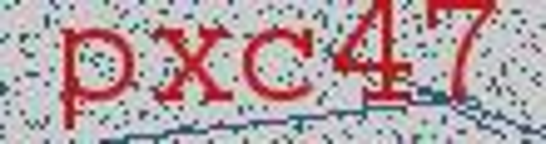4: (326, 2, 417, 119)
7: (422, 1, 502, 104)
c: (243, 19, 318, 107)
p: (49, 25, 140, 130)
x: (150, 17, 237, 115)
